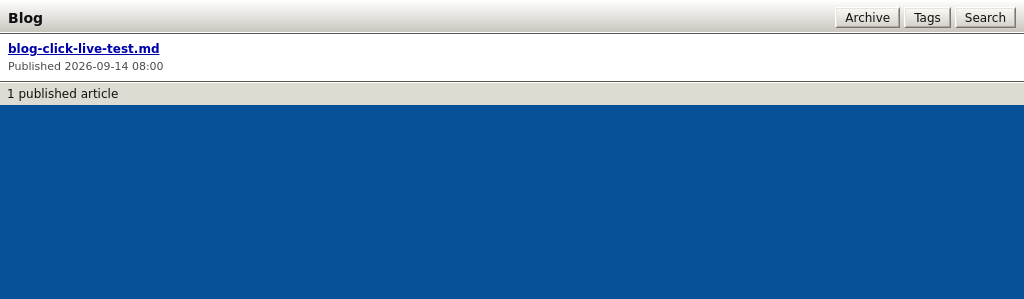
Test: PublishedArticleRouteController › keeps a normal slugged Blog click to one canonical Reader launch
Click the link "blog-click-live-test.md" at (84, 49), box [8,42,160,56]
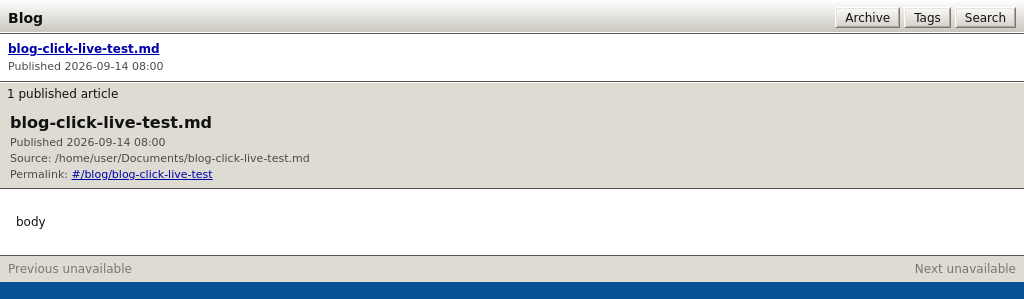
Expected: the link "#/blog/blog-click-live-test" is shown, [72,168,213,181]
Expected: the number of elements with class "article-reader" is 1, [0,105,1023,282]
